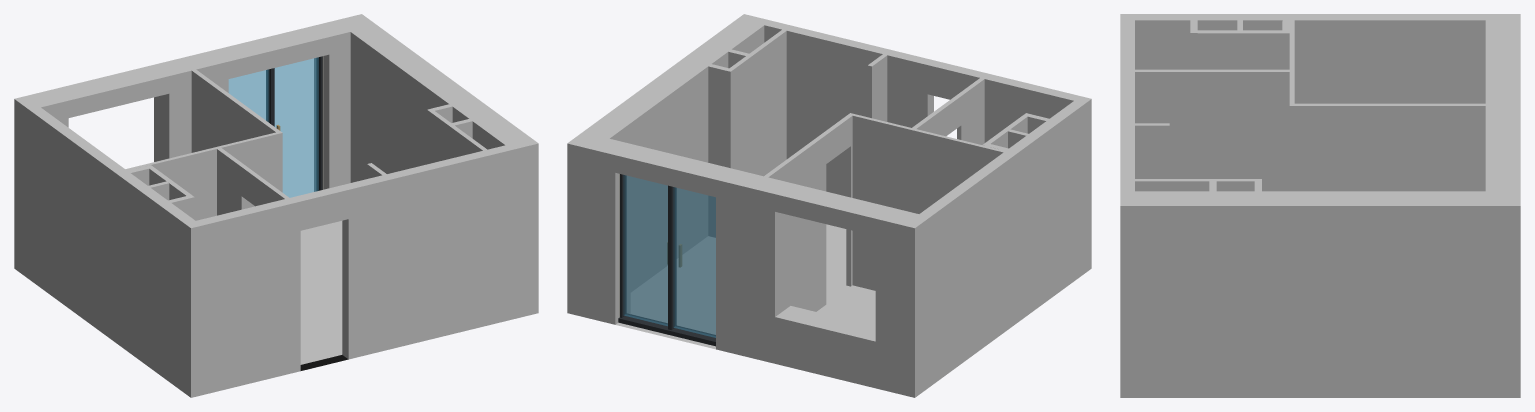
The model's file is standard_window.obj.
The picture shows the model from 3 angles, left to right: view 1: azimuth 30°, elevation 25°; view 2: azimuth 150°, elevation 25°; view 3: azimuth 270°, elevation 25°; orthographic projection. The views are drawn at different scales.
Visible parts, largest first — view 1: Plane, sliding_door, Пол; view 2: Plane, sliding_door, Пол; view 3: Plane.
Boxes of the visible parts, left/top/right/bottom form: Plane: left=14, top=14, right=538, bottom=397; sliding_door: left=228, top=56, right=323, bottom=197; Пол: left=300, top=221, right=348, bottom=370; Plane: left=567, top=14, right=1091, bottom=397; sliding_door: left=618, top=174, right=715, bottom=346; Пол: left=615, top=224, right=875, bottom=349; Plane: left=1120, top=14, right=1520, bottom=397.
Size of the model in its own units: 3.11 by 1.45 by 2.74.
